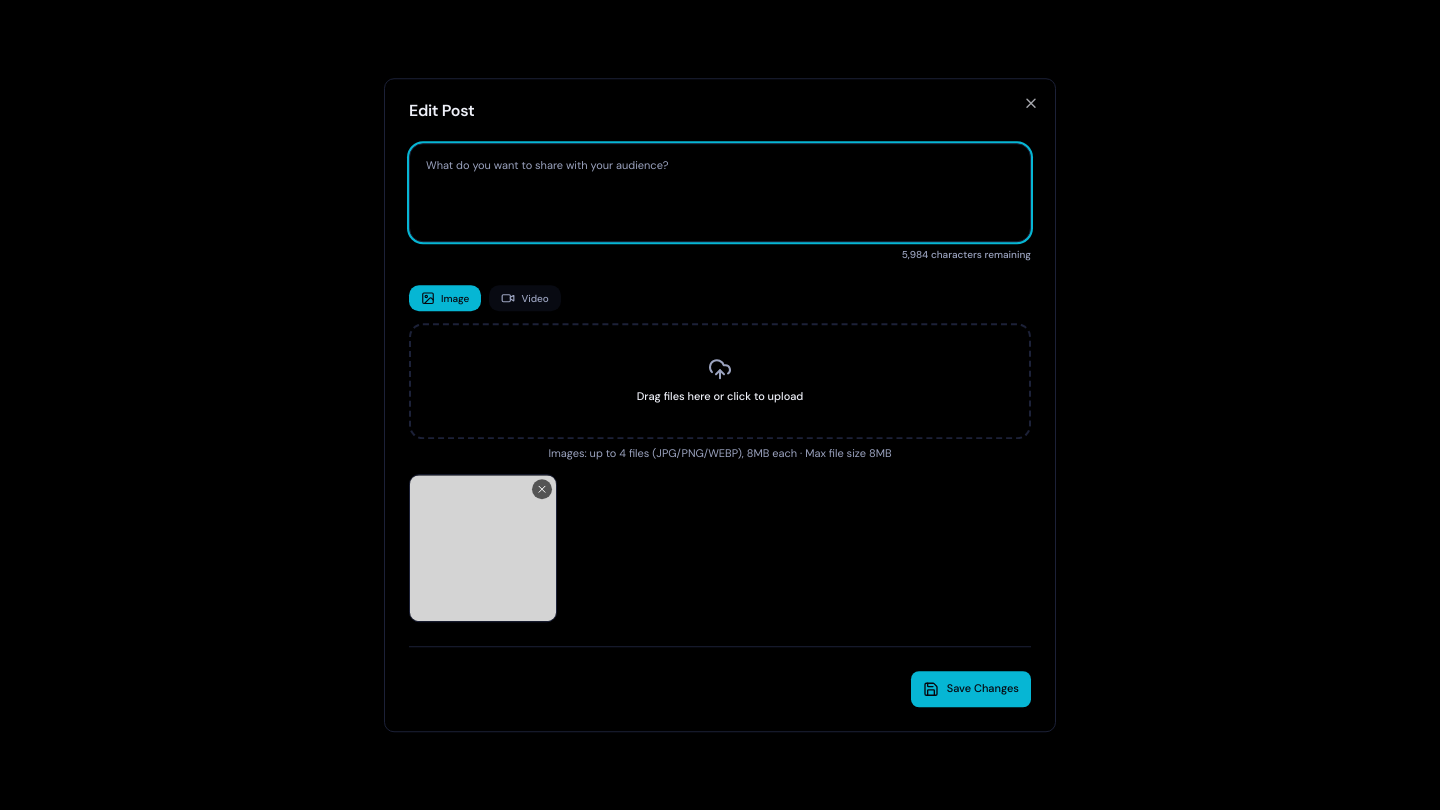
EditPostDialog › empty content disables Save Changes
Clear the text box with placeholder "What do you want to share with your audience?". click: (720, 193)
box: x1=409 y1=143 x2=1031 y2=242
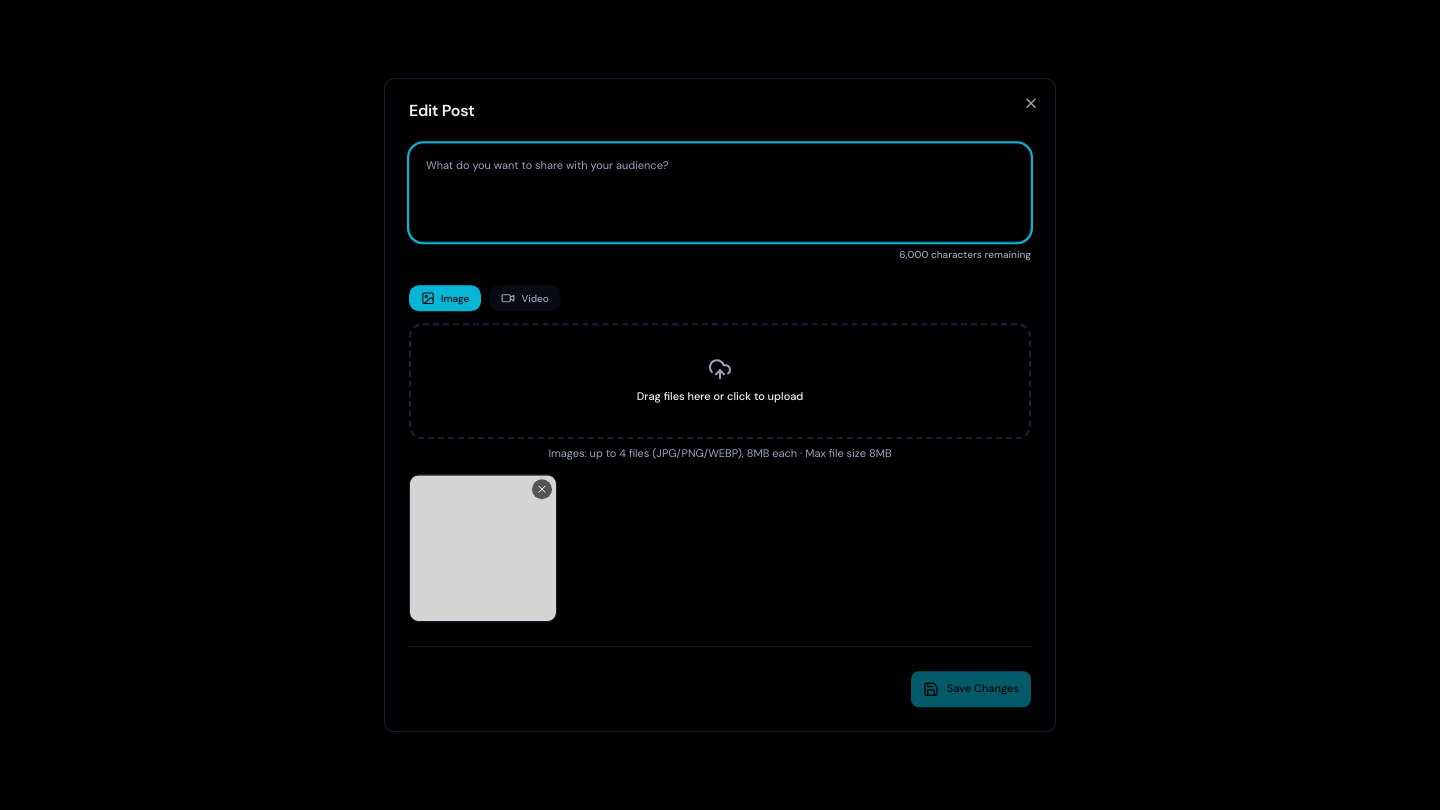
Expected: the button "Save Changes" is disabled, x1=911 y1=671 x2=1031 y2=707
